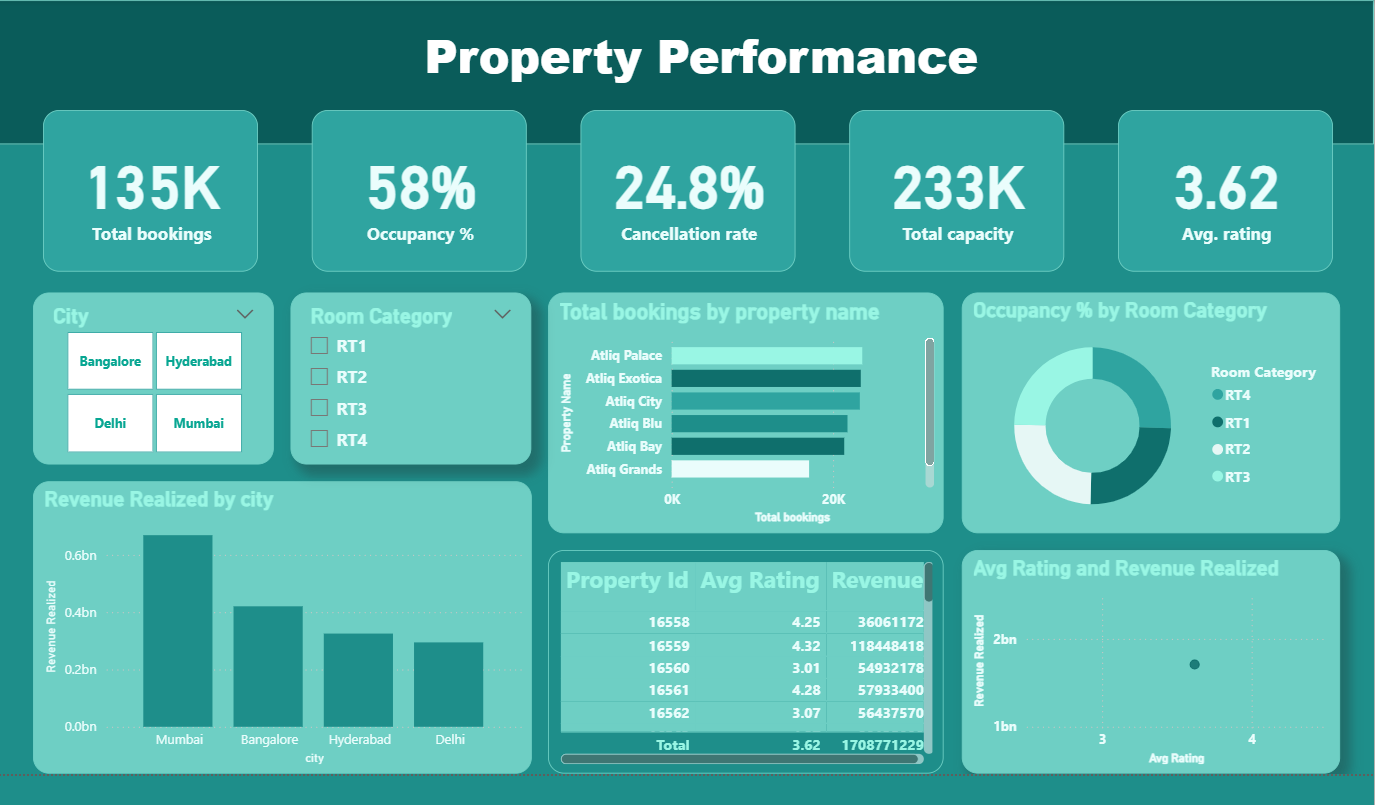

The page's visual inventory and layout, read from the dashboard file:
{"tool":"powerbi","page":{"name":"Property Performance Analysis","canvas":[1280,720],"ordinal":2},"visuals":[{"type":"shape","box":[0,0,1280,134.4],"z":0},{"type":"card","fields":{"Values":["resource_measures.Total bookings"]},"box":[41.6,102.4,200,150.4],"z":1000},{"type":"card","fields":{"Values":["resource_measures.Total capacity"]},"box":[791.6,102.4,200,150.4],"z":2000},{"type":"card","fields":{"Values":["resource_measures.Occupancy %"]},"box":[291.6,102.4,200,150.4],"z":3000},{"type":"card","fields":{"Values":["resource_measures.Cancellation rate"]},"box":[541.6,102.4,200,150.4],"z":4000},{"type":"card","fields":{"Values":["resource_measures.Avg. rating"]},"box":[1041.6,102.4,200,150.4],"z":5000},{"type":"clusteredColumnChart","fields":{"Category":["dim_hotels.city"],"Y":["Sum(fact_bookings.revenue_realized)"]},"box":[32,448,464,272],"z":6000},{"type":"clusteredBarChart","title":"Total bookings by property name","fields":{"Category":["dim_hotels.property_name"],"Y":["resource_measures.Total bookings"]},"box":[512,272,368,224],"z":7000},{"type":"donutChart","fields":{"Category":["fact_aggregated_bookings.room_category"],"Y":["resource_measures.Occupancy %"]},"box":[896,272,352,224],"z":8000},{"type":"scatterChart","fields":{"X":["resource_measures.Avg. rating"],"Y":["Sum(fact_bookings.revenue_realized)"]},"box":[896,512,352,208],"z":9000},{"type":"slicer","fields":{"Values":["dim_hotels.city"]},"box":[32,272,224,160],"z":10000},{"type":"tableEx","fields":{"Values":["dim_hotels.property_id","resource_measures.Avg. rating","resource_measures.revenue"]},"box":[512,512,368,208],"z":11000},{"type":"textbox","box":[0,16,1280,80],"z":12000},{"type":"slicer","fields":{"Values":["fact_aggregated_bookings.room_category"]},"box":[272,272,224,160],"z":13000}]}

Visuals, with their boxes on the page's 1280x720 design canvas (x1, y1, x2, y2). These are canvas units, not pixel positions in the 1375x805 screenshot, which may show the page scaled, cropped or inside an application window:
shape: left=0, top=0, right=1280, bottom=134
card - resource_measures.Total bookings: left=42, top=102, right=242, bottom=253
card - resource_measures.Total capacity: left=792, top=102, right=992, bottom=253
card - resource_measures.Occupancy %: left=292, top=102, right=492, bottom=253
card - resource_measures.Cancellation rate: left=542, top=102, right=742, bottom=253
card - resource_measures.Avg. rating: left=1042, top=102, right=1242, bottom=253
clusteredColumnChart - dim_hotels.city x Sum(fact_bookings.revenue_realized): left=32, top=448, right=496, bottom=720
"Total bookings by property name" clusteredBarChart: left=512, top=272, right=880, bottom=496
donutChart - fact_aggregated_bookings.room_category x resource_measures.Occupancy %: left=896, top=272, right=1248, bottom=496
scatterChart - resource_measures.Avg. rating x Sum(fact_bookings.revenue_realized): left=896, top=512, right=1248, bottom=720
slicer - dim_hotels.city: left=32, top=272, right=256, bottom=432
tableEx - dim_hotels.property_id x resource_measures.Avg. rating: left=512, top=512, right=880, bottom=720
textbox: left=0, top=16, right=1280, bottom=96
slicer - fact_aggregated_bookings.room_category: left=272, top=272, right=496, bottom=432
